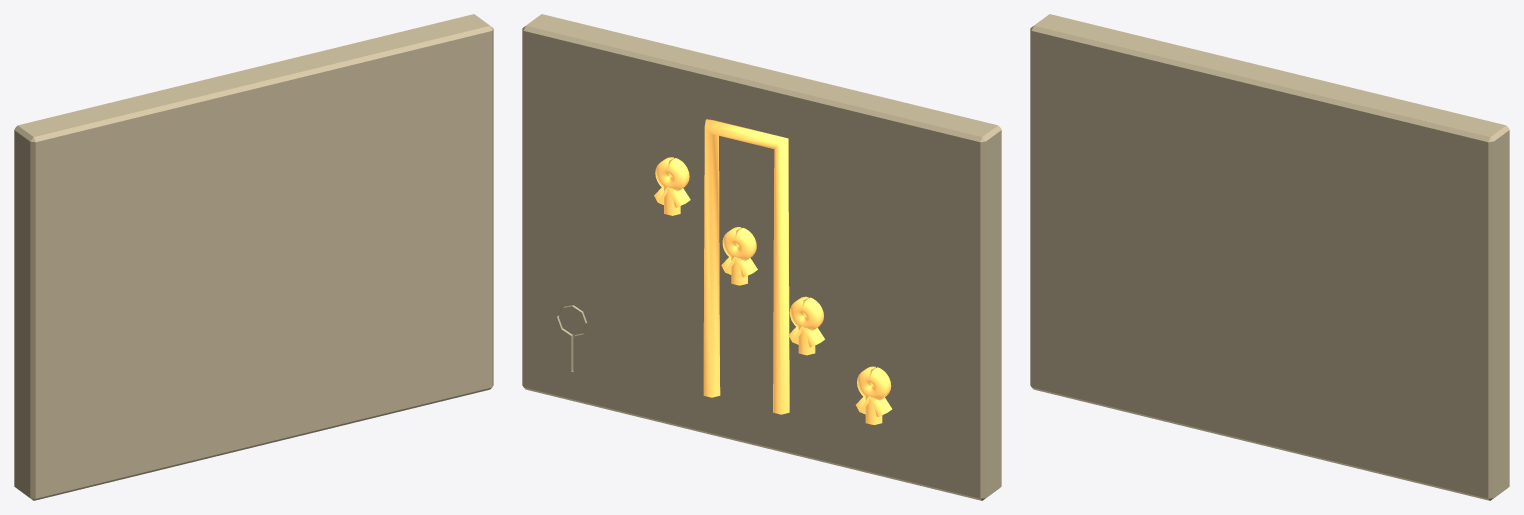
The model's file is mural_4.glb.
3 views of the same model, side by side, from view 1: azimuth 30°, elevation 25°; view 2: azimuth 150°, elevation 25°; view 3: azimuth 330°, elevation 25° (orthographic).
Parts seen in each view (by area): view 1: mural_4; view 2: mural_4; view 3: mural_4.
Boxes of the visible parts, bbox=[...] form: mural_4: bbox=[14, 14, 493, 500]; mural_4: bbox=[522, 14, 1001, 500]; mural_4: bbox=[1030, 14, 1509, 500].
Size of the model in its own units: 4 by 3 by 0.452.
